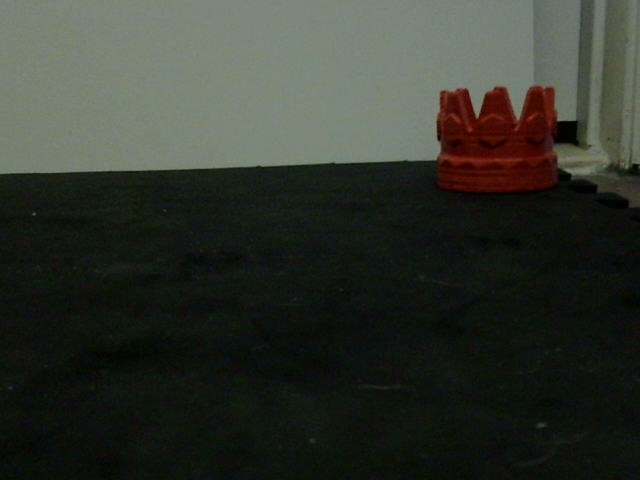crown: (434, 85, 563, 193)
